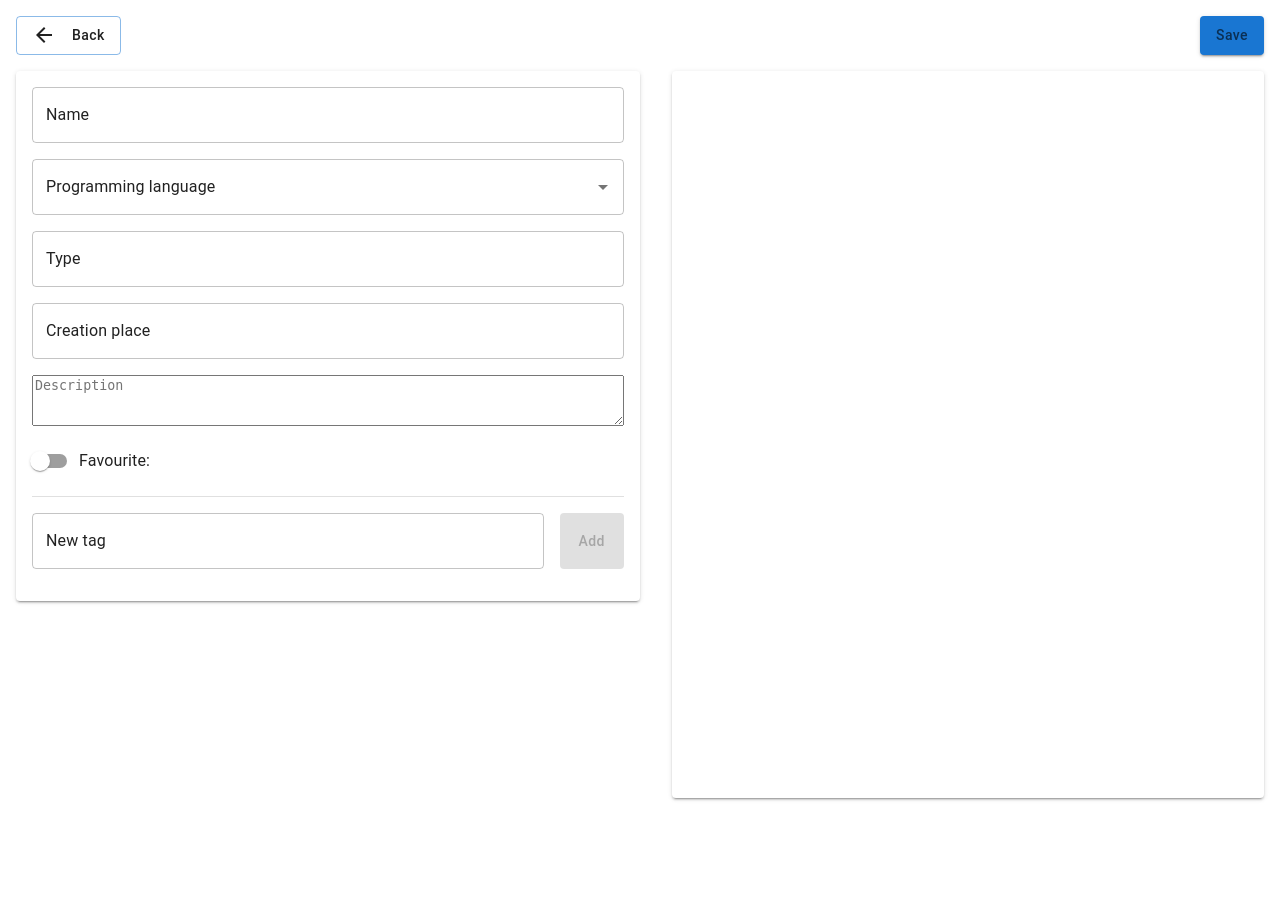
Test case: shows validation errors and does not save an incomplete snippet
Click the button "Save".
click(1232, 36)  # box [1200,16,1264,55]
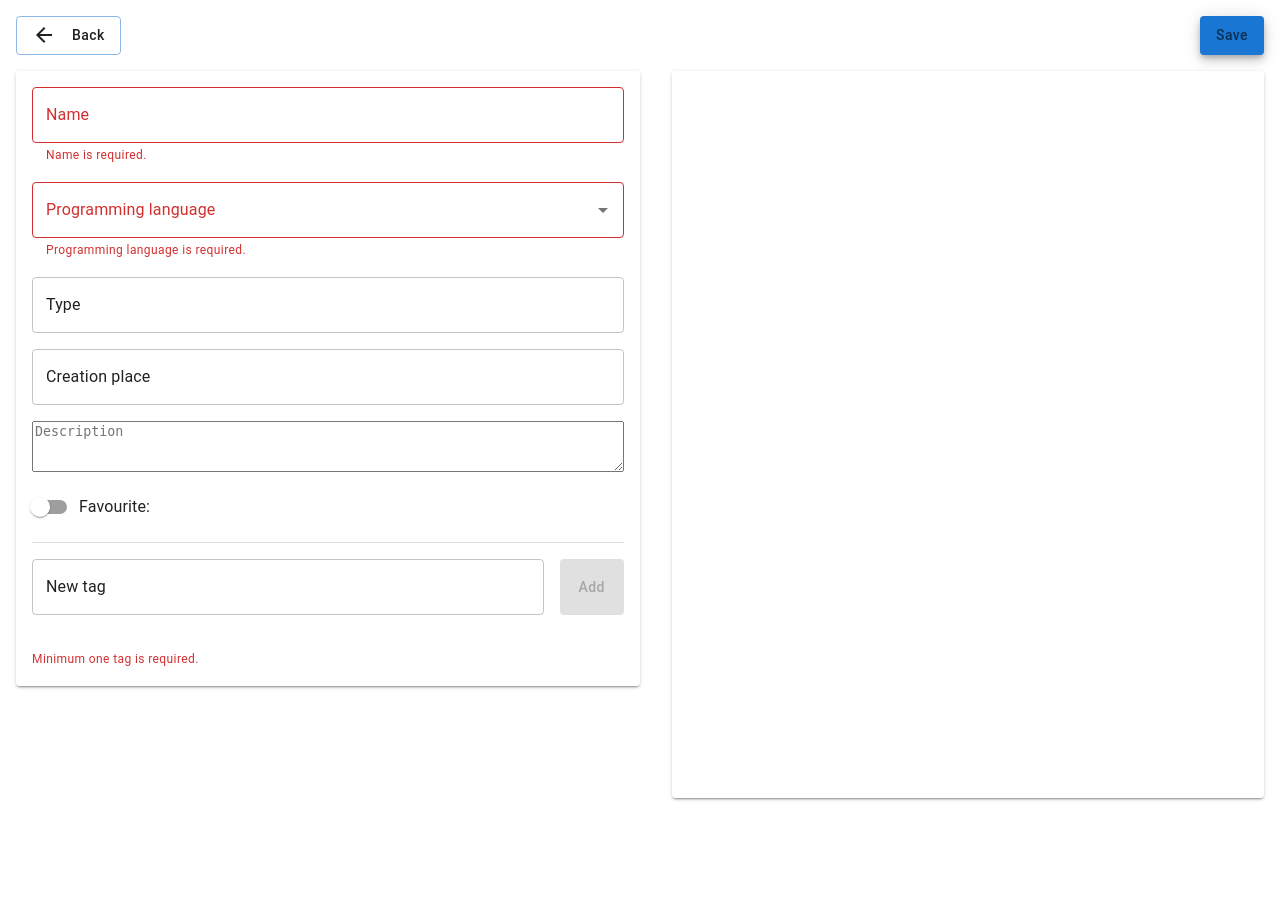
Now the text "Name is required." is shown, box [46,148,147,162]
Now the text "Programming language is required." is shown, box [46,243,246,257]
Now the text "Minimum one tag is required." is shown, box [32,652,199,666]
